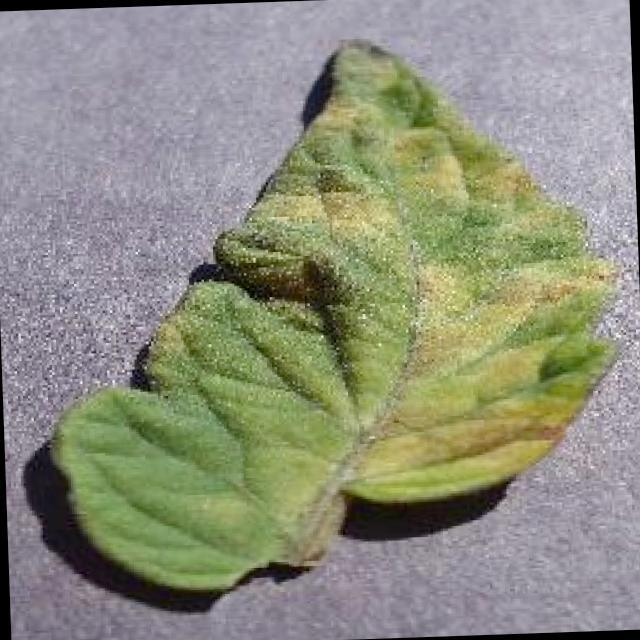Tomato mold leaf: (45, 27, 632, 596)
